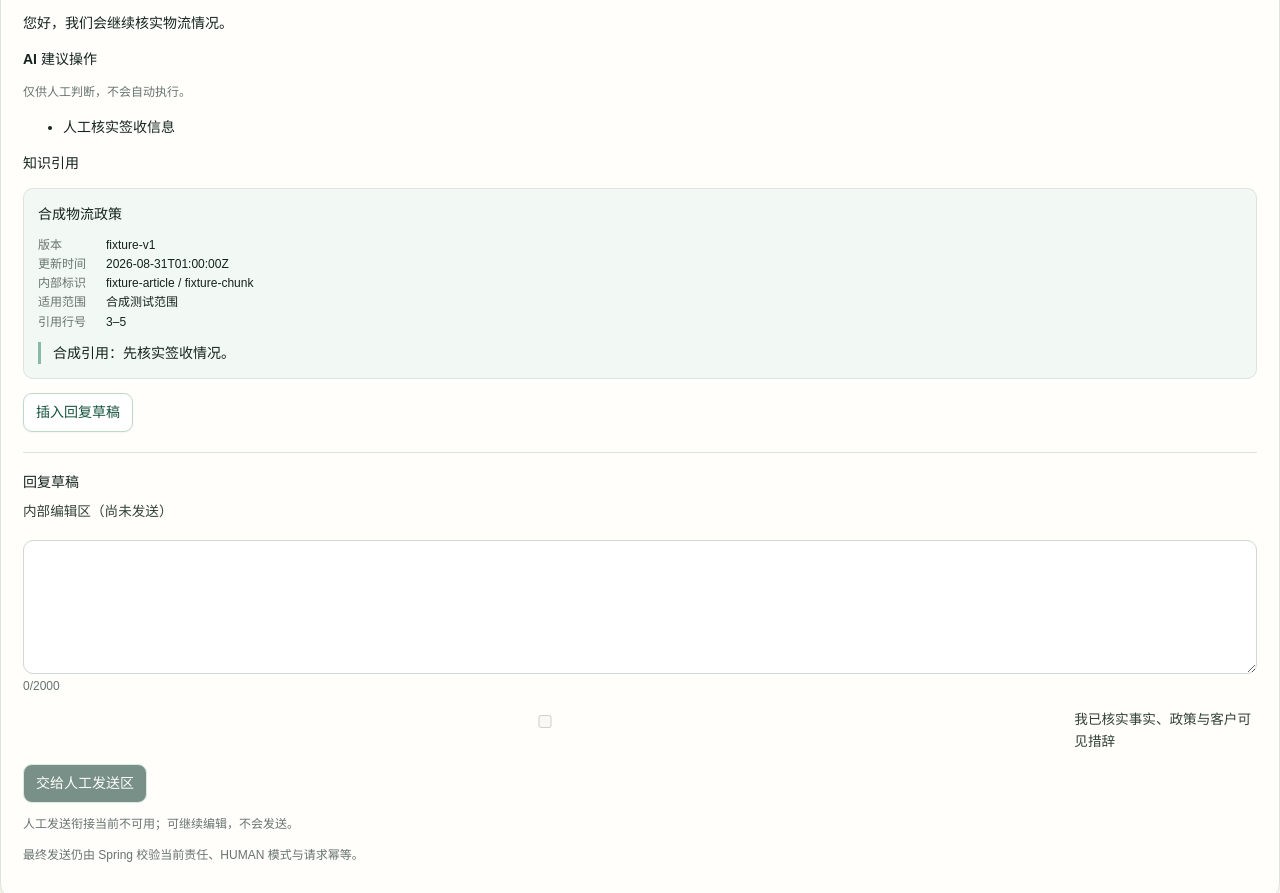
Scenario: 独立客服辅助展示与草稿 › 不能覆盖正在编辑的草稿，替换需要再次确认
(page scrolled)
In the text box labelled "内部编辑区（尚未发送）": (640, 607) [23,540,1257,674], type "保留人工编辑"
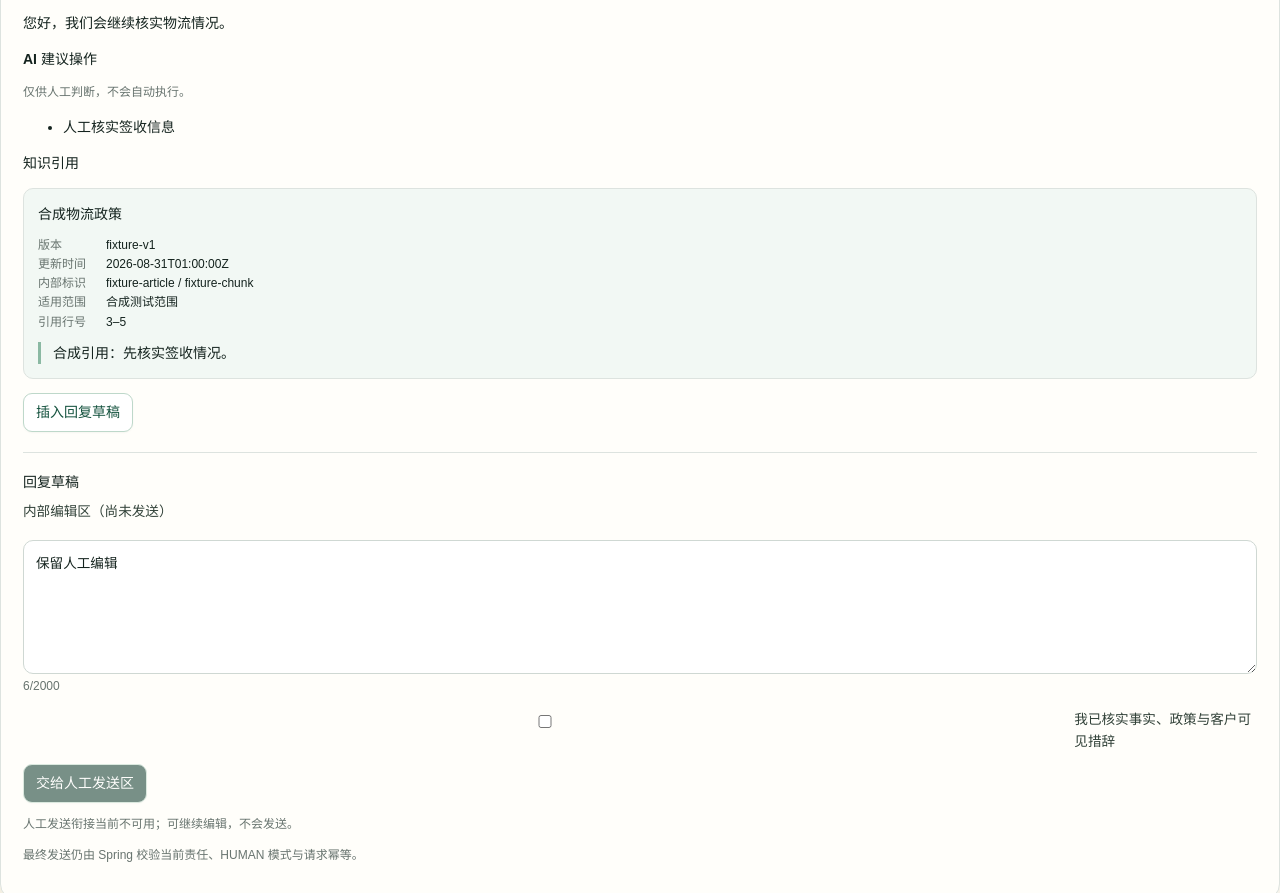
Click the button "插入回复草稿": click(78, 412) [23,393,133,432]
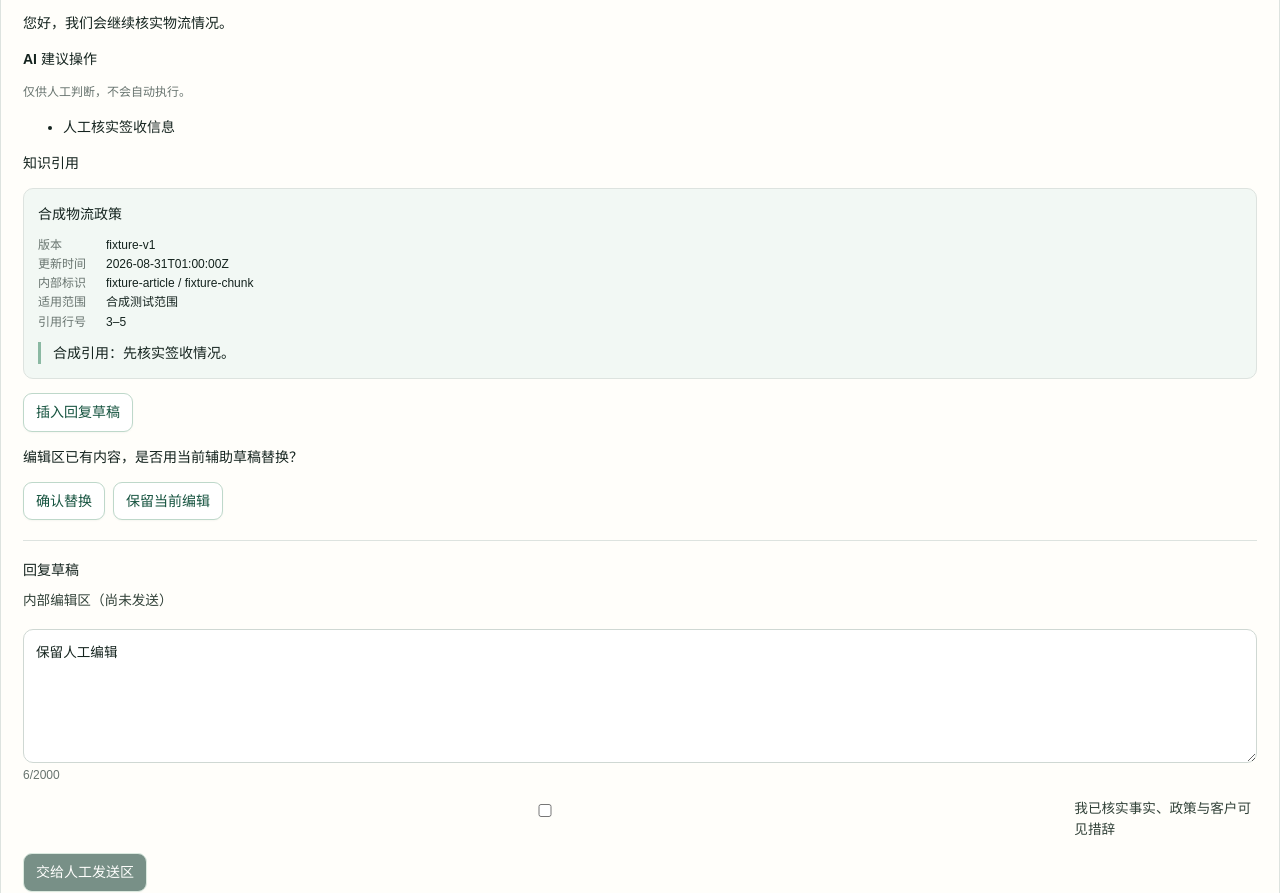
Click the button "保留当前编辑": click(168, 501) [113,482,223,520]
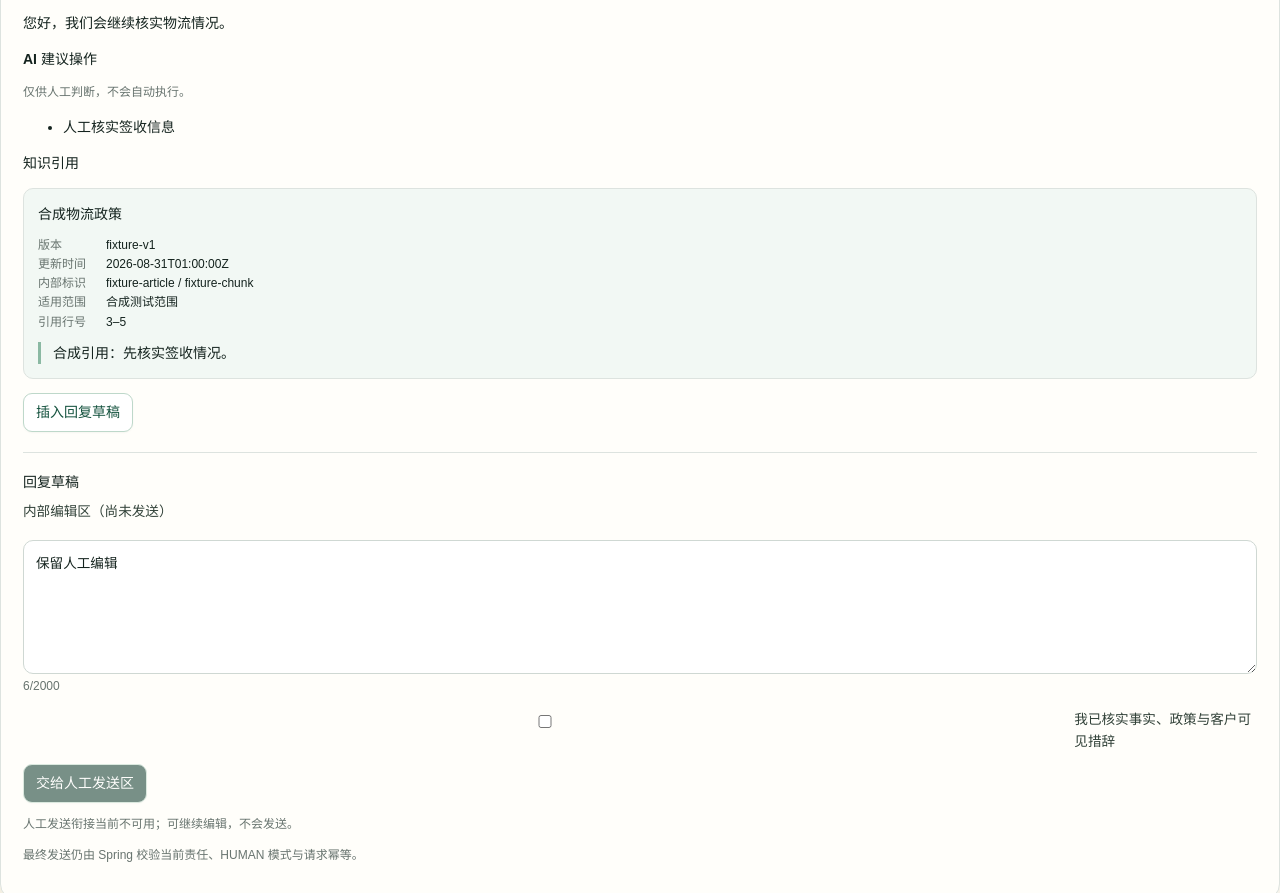
Click the button "插入回复草稿": click(78, 412) [23,393,133,432]
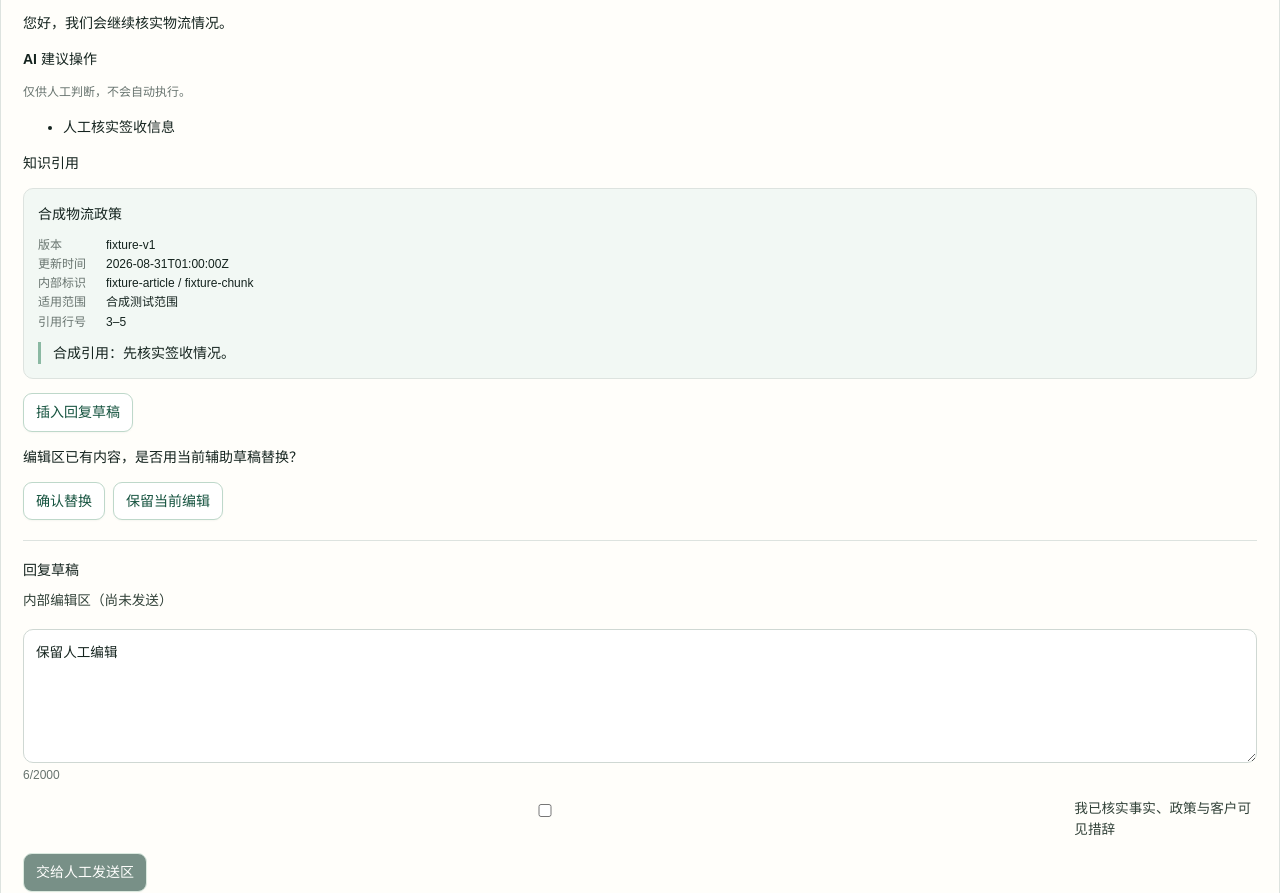
Click the button "确认替换": click(64, 501) [23,482,105,520]
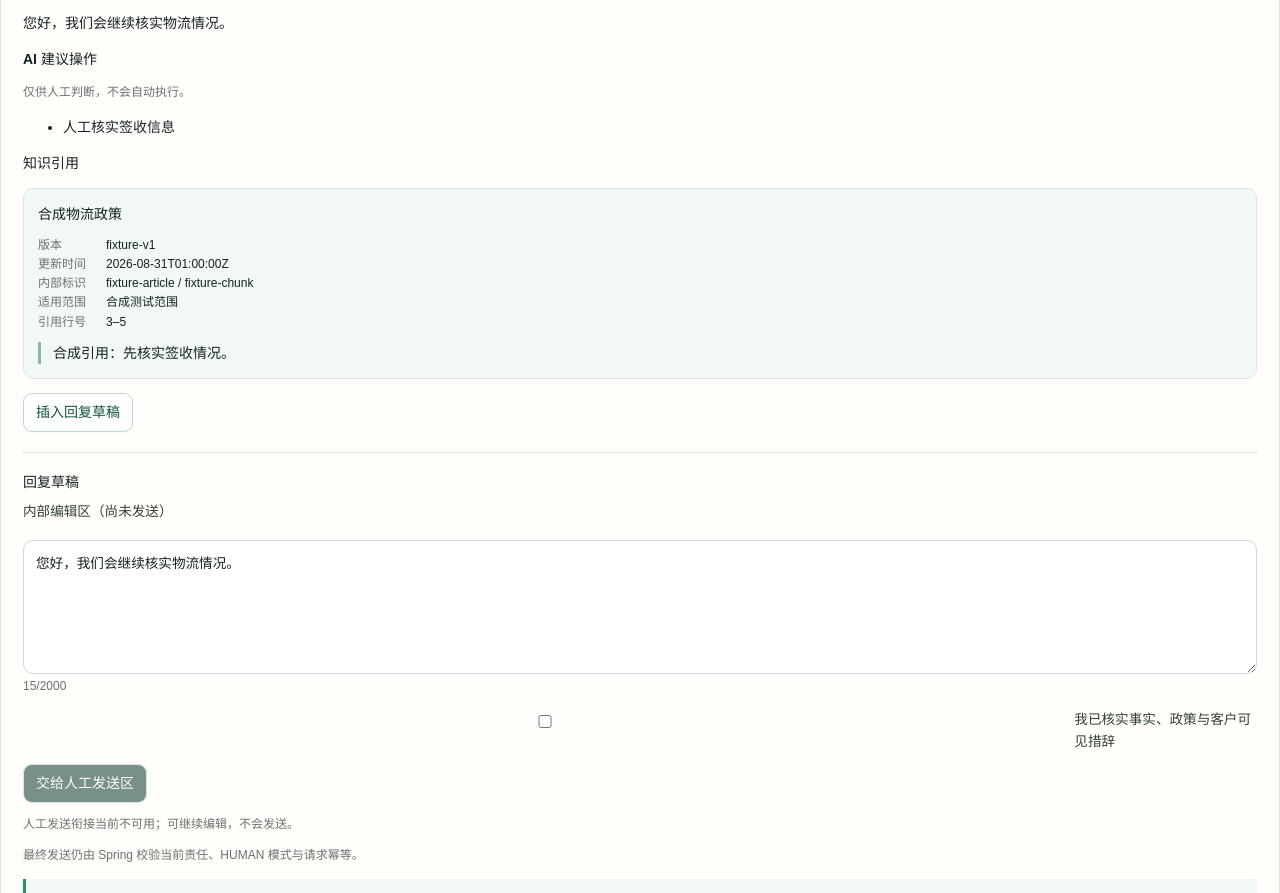
Result: the text box labelled "内部编辑区（尚未发送）" holds "您好，我们会继续核实物流情况。" at [23,540,1257,674]
